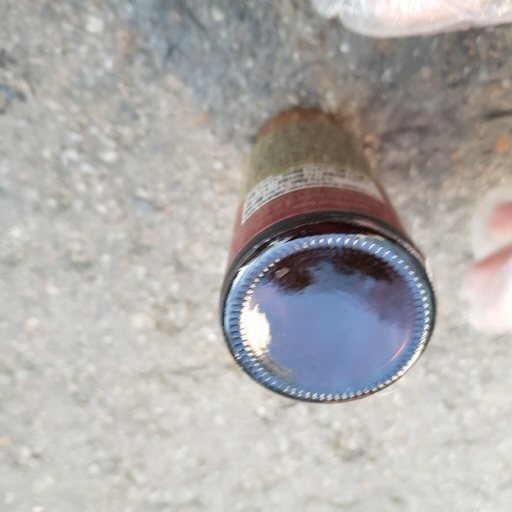Glass_3: (216, 115, 438, 404)
